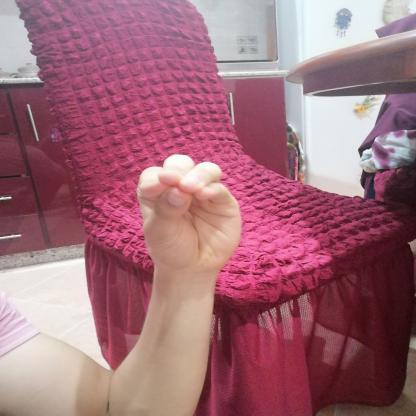HA: (122, 146, 259, 288)
